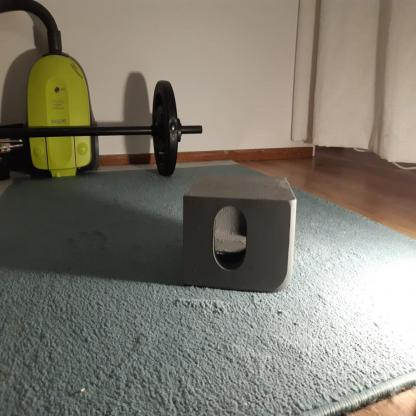CornerCasting: (181, 174, 298, 289)
